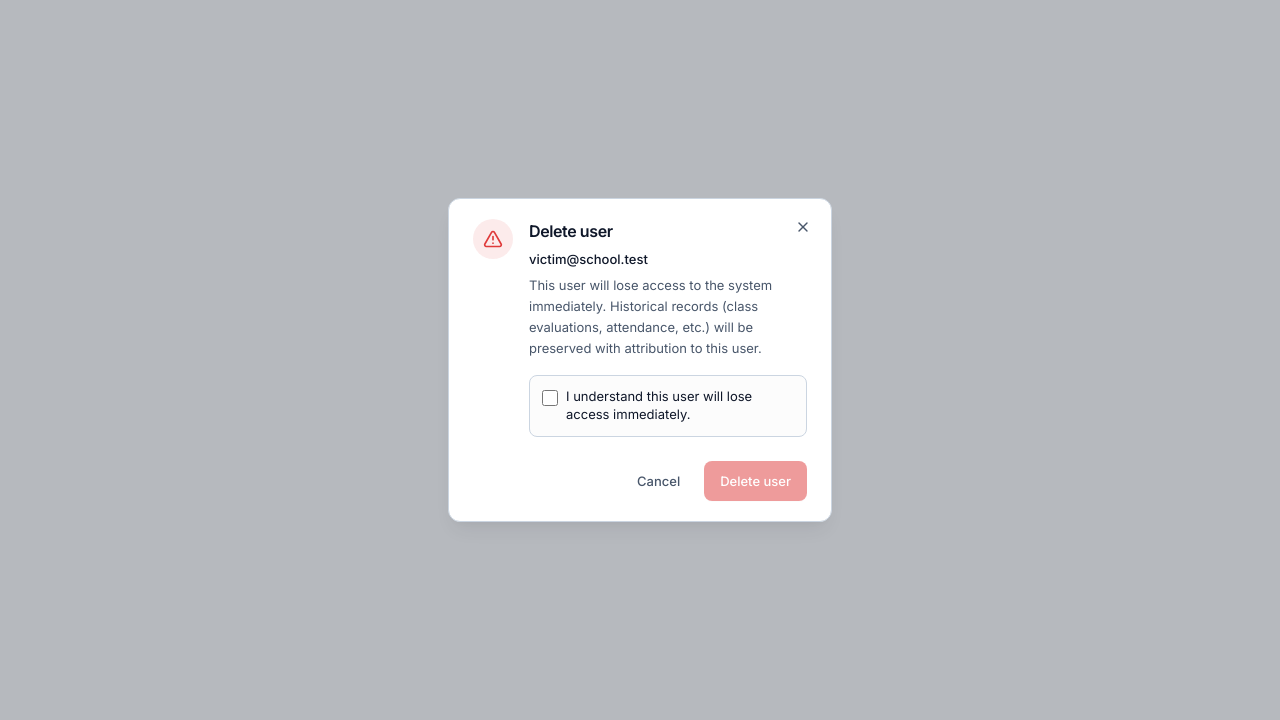
Test: DeleteUserDialog › disables the destructive button until the checkbox is checked
Expected: the button "Delete user" is disabled, [704, 461, 807, 501]
// Tick the checkbox — the button should enable.
Click the checkbox. click: coordinates (550, 398)
box: [542, 390, 558, 406]
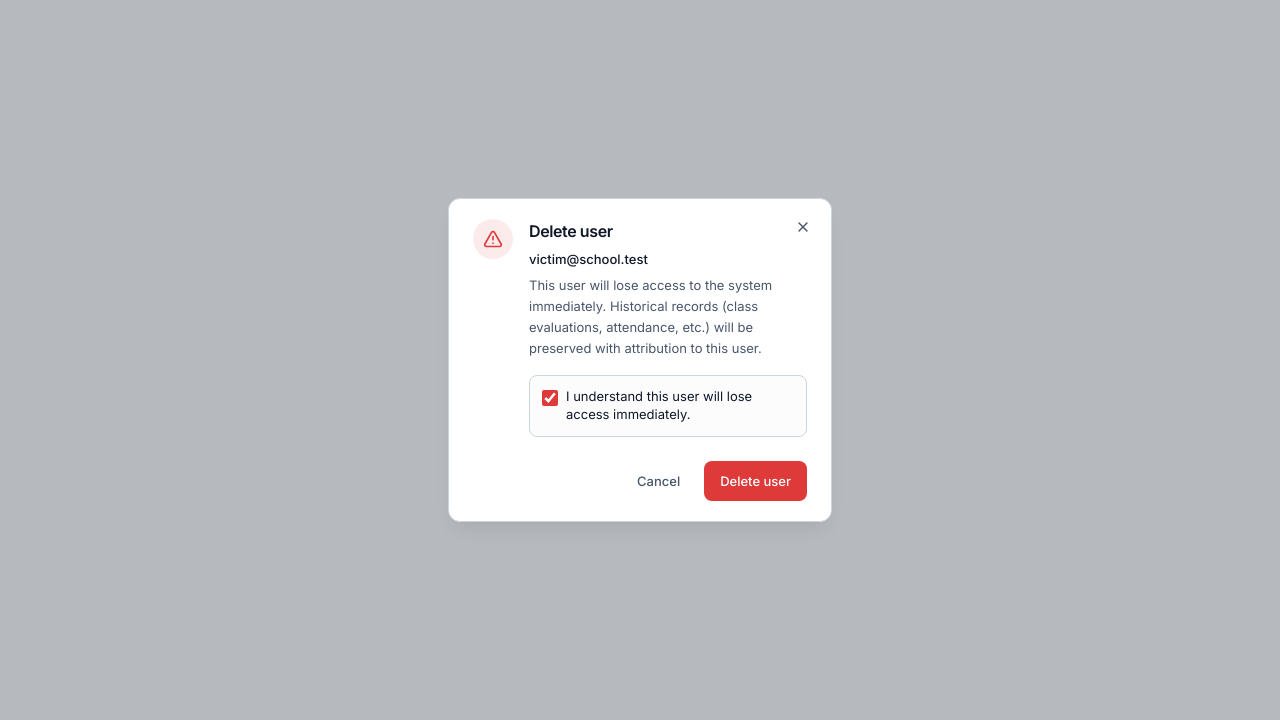
Expected: the checkbox is checked
Expected: the button "Delete user" is enabled, [704, 461, 807, 501]
// Untick — button disables again.
Click the checkbox. click: coordinates (550, 398)
box: [542, 390, 558, 406]
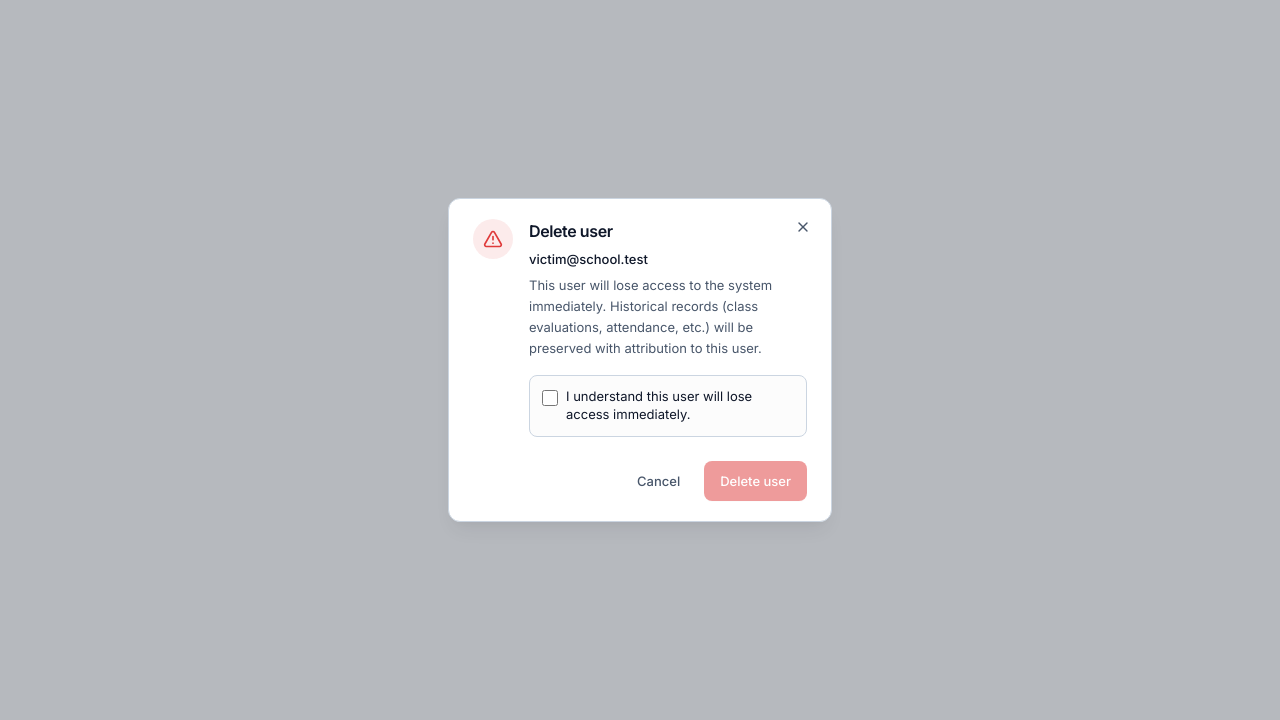
Expected: the checkbox is not checked, [542, 390, 558, 406]
Expected: the button "Delete user" is disabled, [704, 461, 807, 501]
